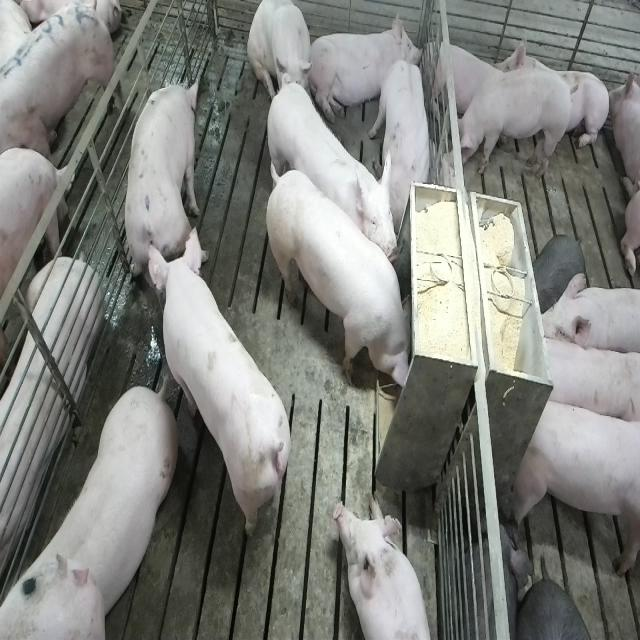Feeding: (270, 165, 421, 393)
Sitting: (248, 1, 315, 113)
Standing: (152, 235, 297, 552), (6, 376, 182, 633), (263, 77, 397, 267), (512, 391, 638, 581), (0, 0, 120, 167), (122, 71, 205, 281), (452, 71, 575, 177), (536, 332, 637, 430), (537, 273, 640, 360), (372, 61, 429, 214)
Sternal_lying: (0, 242, 100, 619), (335, 498, 437, 640), (497, 30, 609, 156), (310, 12, 421, 126), (428, 34, 502, 120)
